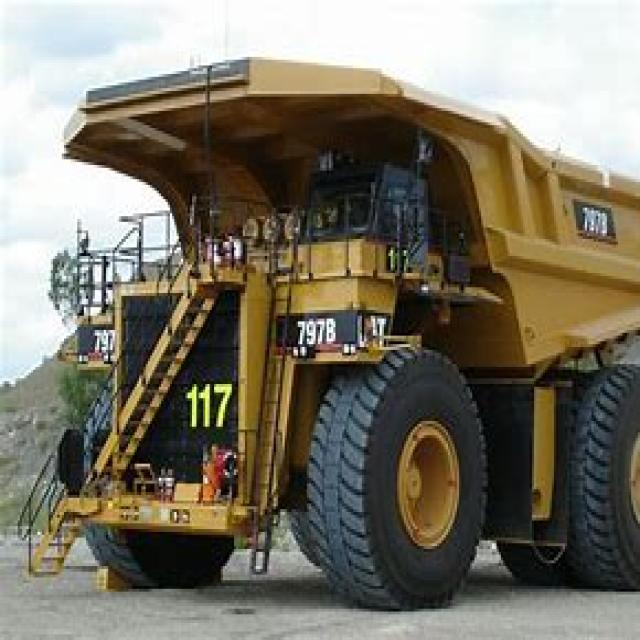dump_truck: (33, 43, 638, 620)
